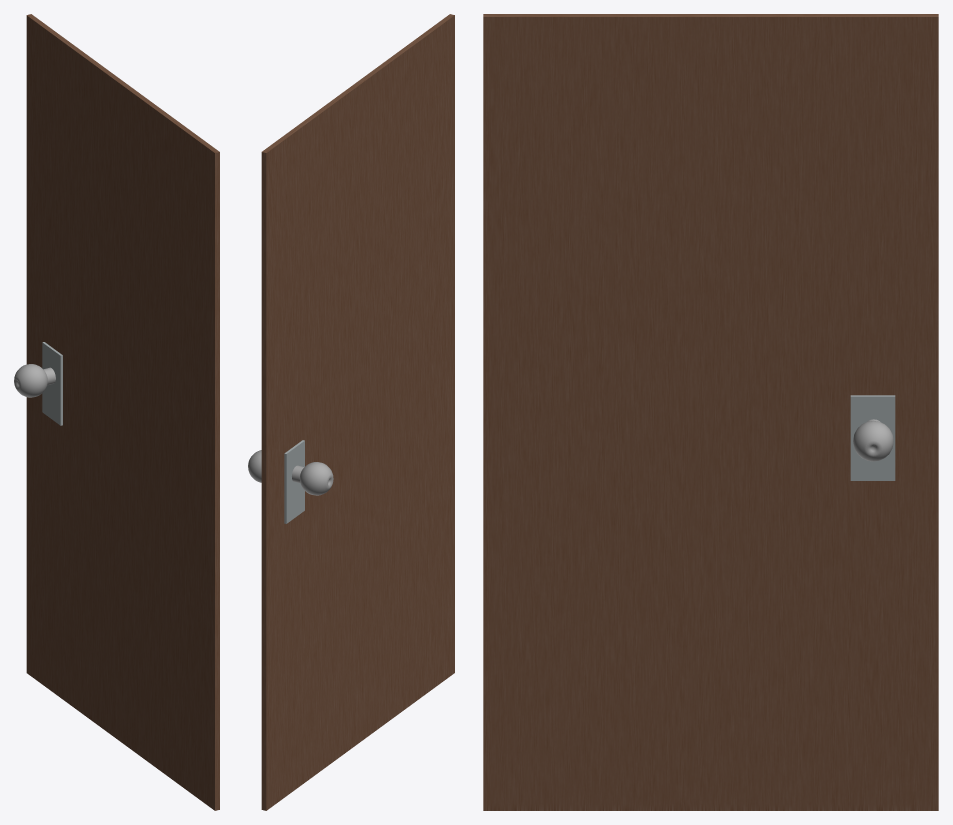
File: StorageDoor.fbx
The picture shows the model from 3 angles, left to right: view 1: azimuth 30°, elevation 25°; view 2: azimuth 150°, elevation 25°; view 3: azimuth 270°, elevation 25°; orthographic projection. The views are drawn at different scales.
Parts seen in each view (by area): view 1: polySurface30, polySurface31, pSphere2; view 2: polySurface30, polySurface31, pSphere2; view 3: polySurface30, polySurface31, pSphere1.
Boxes of the visible parts, x1,y1,x2,y2 form: polySurface30: (26,14,219,810); polySurface31: (42,342,62,425); pSphere2: (14,364,47,397); polySurface30: (261,14,454,810); polySurface31: (284,440,304,523); pSphere2: (299,462,333,495); polySurface30: (483,14,938,810); polySurface31: (850,395,895,480); pSphere1: (853,421,893,461).
Bounding box in the file's own units: 3.99 × 31.62 × 16.43.
3 materials, 1 textured.
